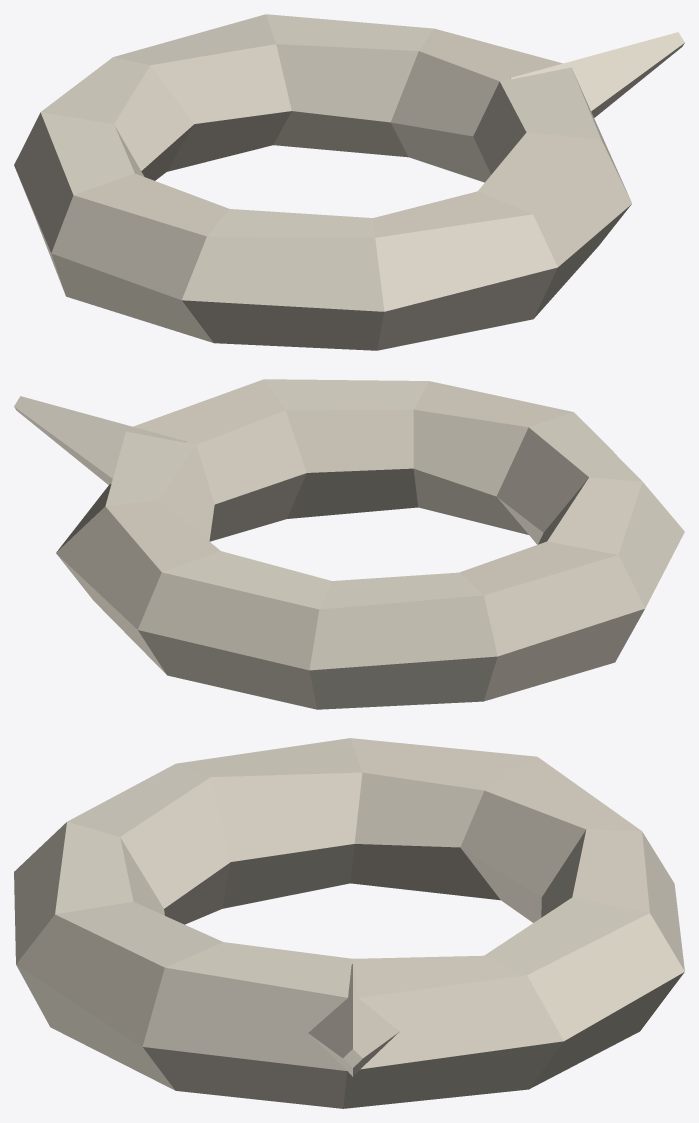
File: vertebra.glb
The picture shows the model from 3 angles, top to bottom: view 1: azimuth 30°, elevation 25°; view 2: azimuth 150°, elevation 25°; view 3: azimuth 270°, elevation 25°; orthographic projection. The views are drawn at different scales.
Visible parts, largest first — view 1: bone, spur; view 2: bone, spur; view 3: bone, spur.
Part boxes in pixels (<box>): bone: <box>14,14,631,350</box>; spur: <box>510,32,684,117</box>; bone: <box>56,379,684,709</box>; spur: <box>14,396,185,484</box>; bone: <box>14,738,684,1108</box>; spur: <box>308,964,399,1076</box>.
Bounding box in the file's own units: 1.63 × 0.2974 × 1.35.
